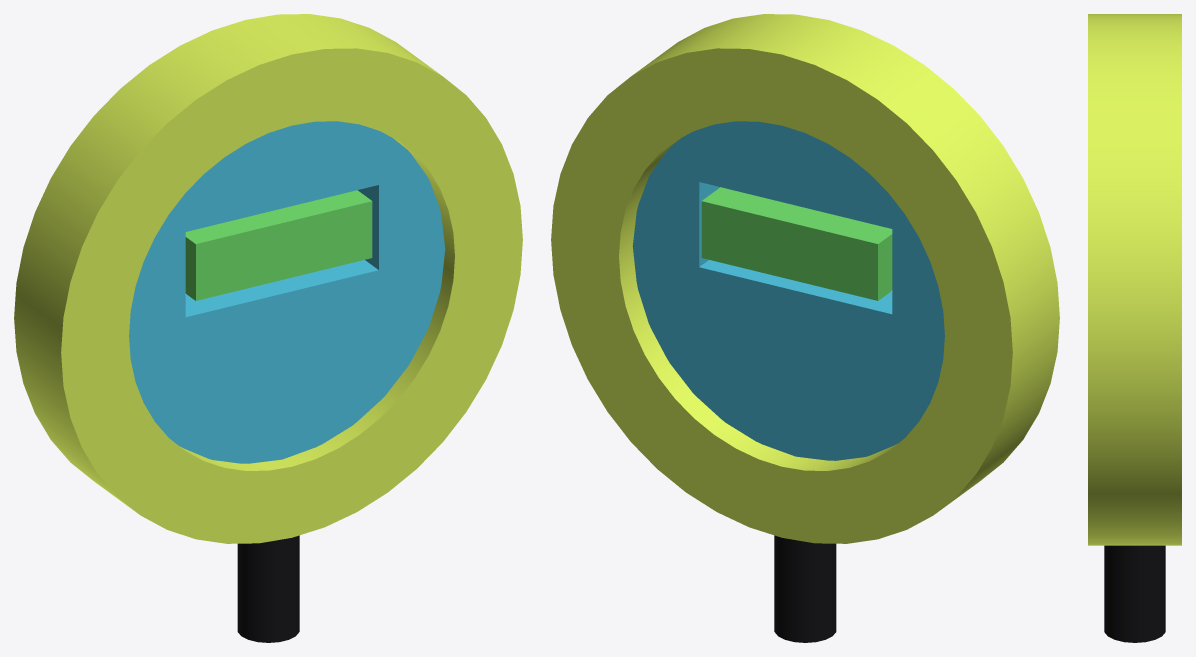
File: meter2.obj
The picture shows the model from 3 angles, left to right: view 1: azimuth 30°, elevation 25°; view 2: azimuth 150°, elevation 25°; view 3: azimuth 270°, elevation 25°; orthographic projection.
Parts seen in each view (by area): view 1: Tube001, Circle001, Box001, Cylinder001; view 2: Tube001, Circle001, Box001, Cylinder001; view 3: Tube001, Cylinder001.
Part boxes in pixels (left/top/right/bottom): Tube001: left=14, top=14, right=522, bottom=543; Circle001: left=129, top=121, right=445, bottom=463; Box001: left=185, top=190, right=372, bottom=300; Cylinder001: left=237, top=535, right=299, bottom=642; Tube001: left=551, top=14, right=1059, bottom=543; Circle001: left=632, top=121, right=944, bottom=460; Box001: left=701, top=187, right=892, bottom=300; Cylinder001: left=774, top=535, right=836, bottom=642; Tube001: left=1088, top=14, right=1181, bottom=545; Cylinder001: left=1104, top=545, right=1165, bottom=642.
Size of the model in its own units: 170 by 208 by 30.
